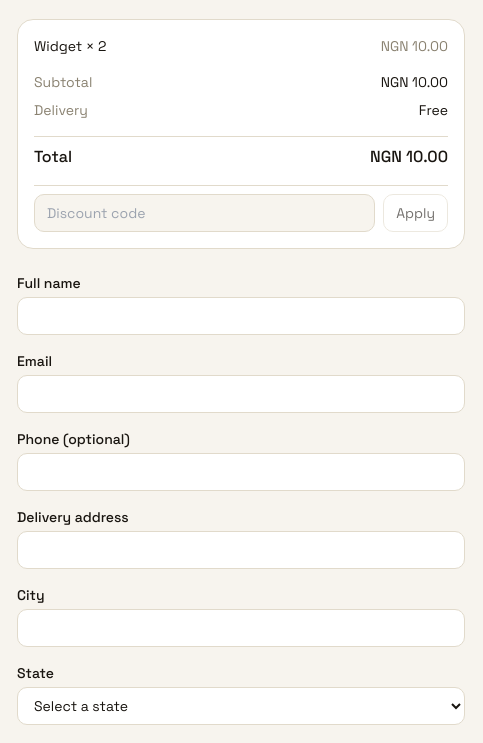
Test: CheckoutPage validation › places a COD order directly with no payment-method choice and redirects to order status
Type "Ada Lovelace" into the field labelled "Full name" at (241, 316), box [17,297,465,335]
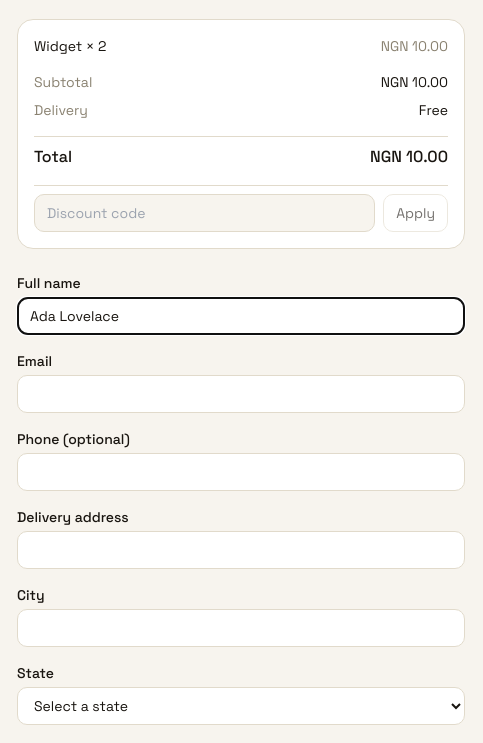
Type "ada@example.com" into the field labelled "Email" at (241, 394), box [17,375,465,413]
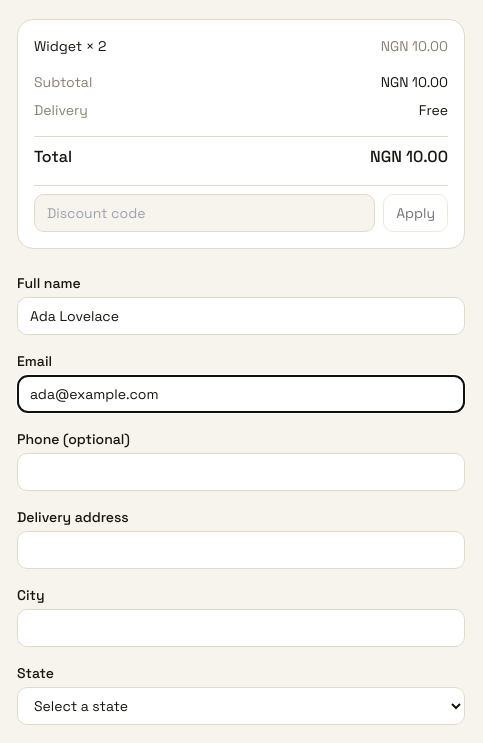
Type "1 Broad Street" into the field labelled "Delivery address" at (241, 550), box [17,531,465,569]
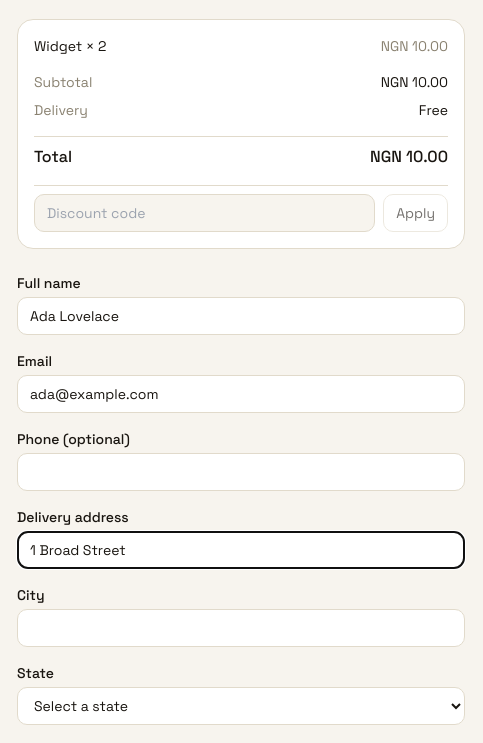
Type "Lagos" into the field labelled "City" at (241, 628), box [17,609,465,647]
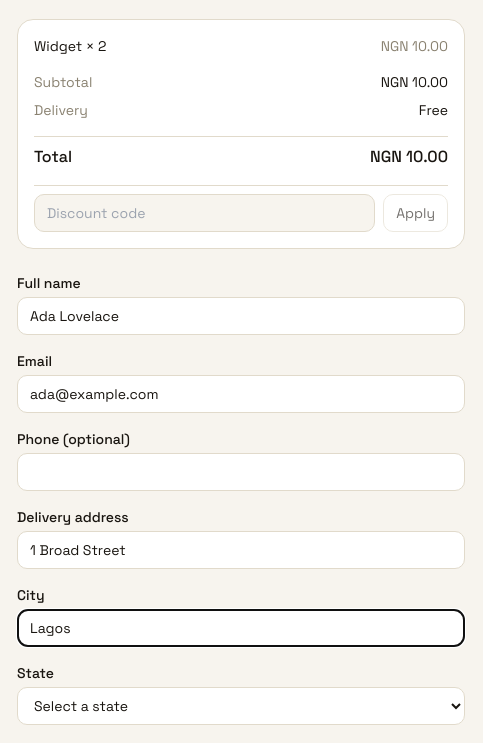
Select "Lagos" in the dropdown labelled "State" at (241, 706), box [17,687,465,725]
(page scrolled)
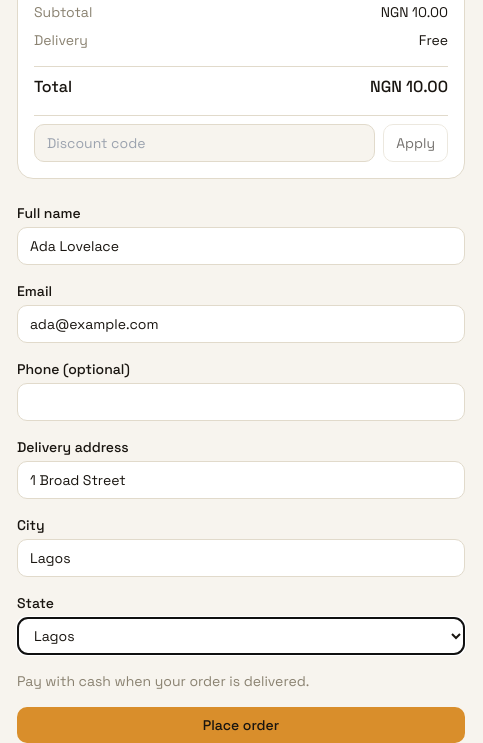
Click the button "Place order" at (241, 725), box [17,707,465,742]
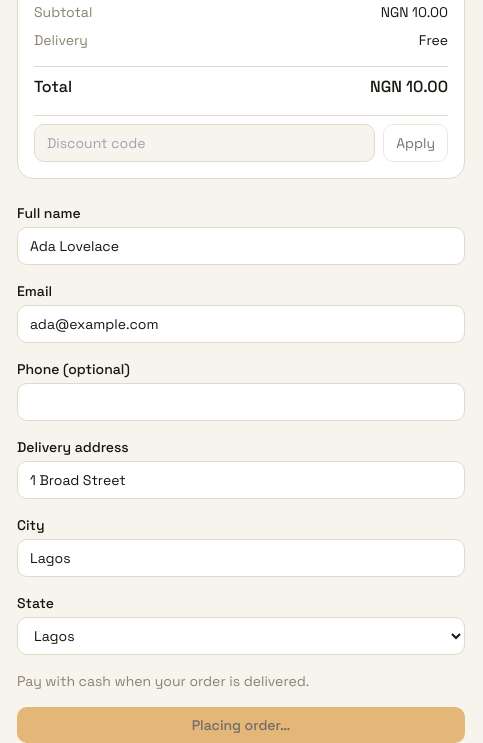
Expected: the button "Placing order…" is shown, [17,707,465,742]
